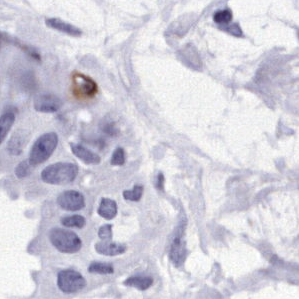Lymphocyte: (69, 71, 100, 97)
